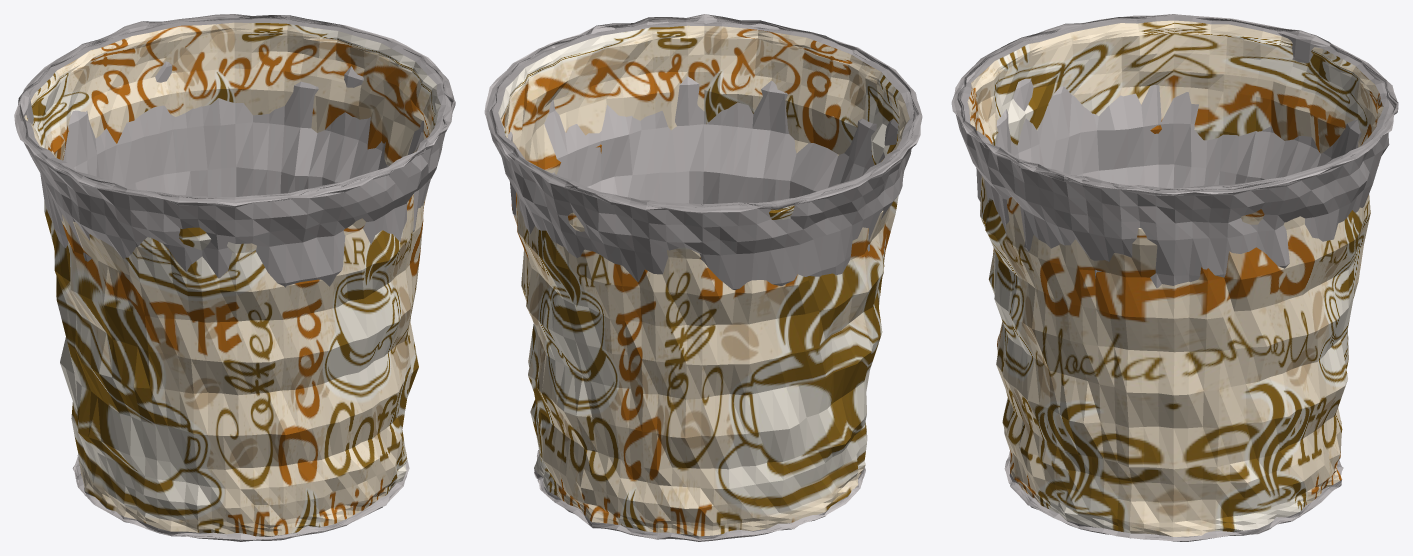
Rendered from crush_low_0.obj.
The picture shows the model from 3 angles, left to right: view 1: azimuth 30°, elevation 25°; view 2: azimuth 150°, elevation 25°; view 3: azimuth 270°, elevation 25°; orthographic projection.
Parts seen in each view (by area): view 1: model; view 2: model; view 3: model.
Part boxes in pixels (x1=…): model: x1=14, y1=14, x2=455, y2=541; model: x1=484, y1=14, x2=922, y2=541; model: x1=951, y1=14, x2=1398, y2=541.
Bounding box in the file's own units: 0.0832 × 0.0775 × 0.0832.
Materials: 1 (1 with a texture image).
